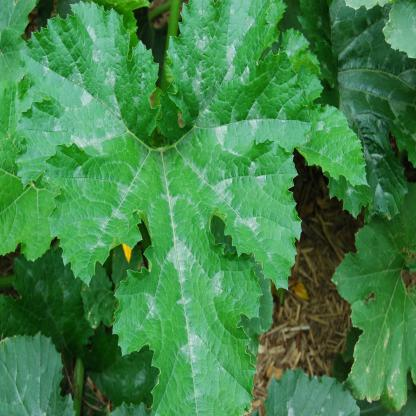Squash Powdery mildew leaf: (8, 0, 377, 416)
